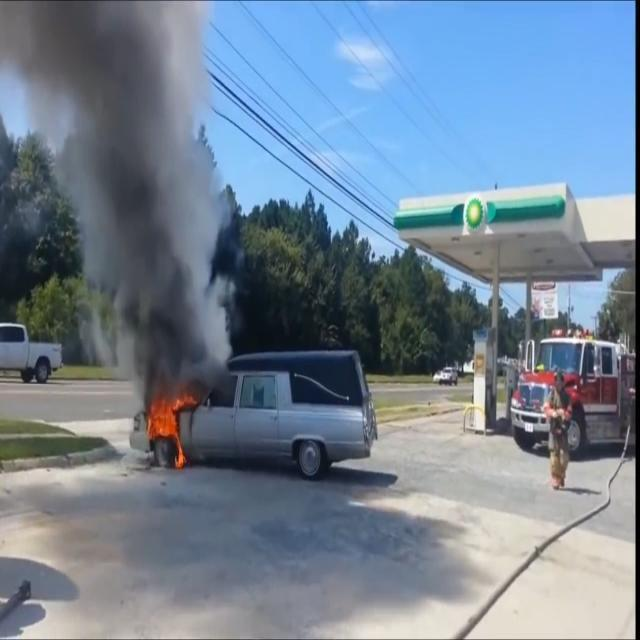fire: (142, 381, 198, 471)
